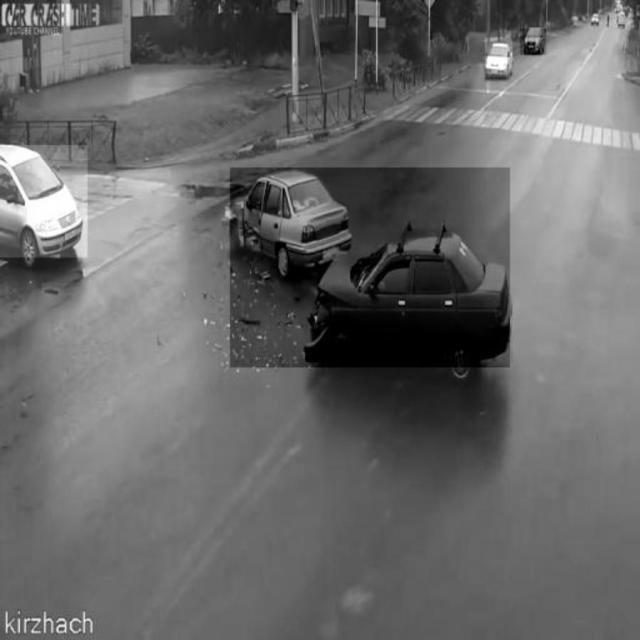accident: (230, 168, 510, 368)
vehicle: (0, 145, 88, 257), (485, 38, 512, 78), (521, 29, 547, 55)
